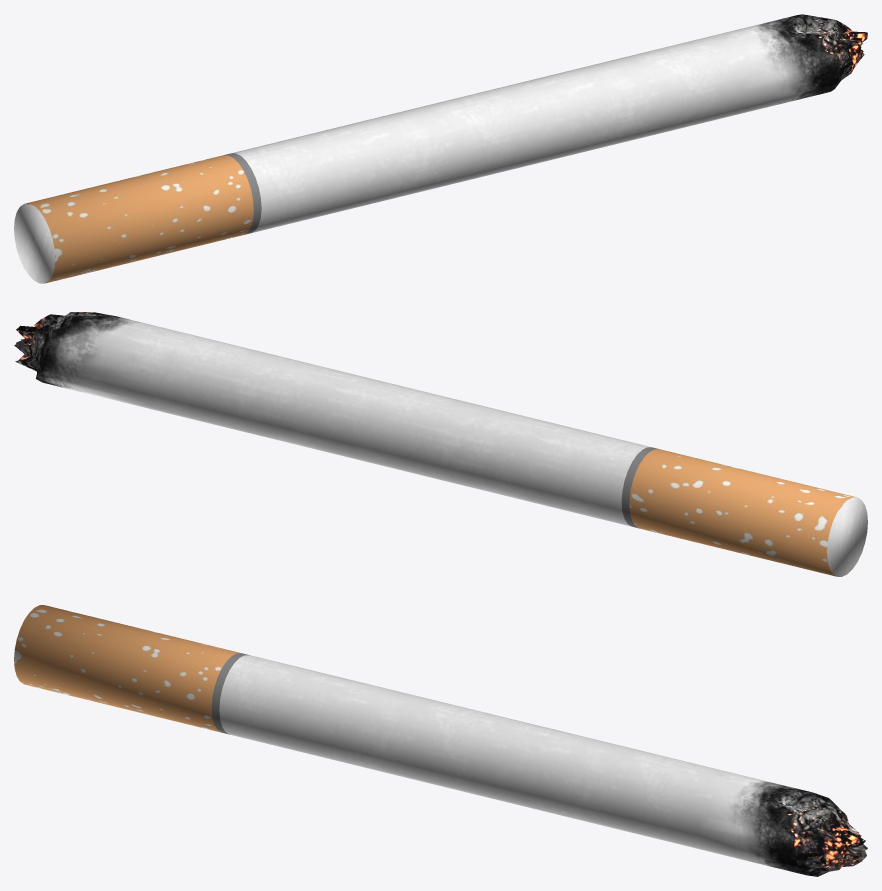
Rendered from cigarette.fbx.
The picture shows the model from 3 angles, top to bottom: view 1: azimuth 30°, elevation 25°; view 2: azimuth 150°, elevation 25°; view 3: azimuth 330°, elevation 25°; orthographic projection.
Visible parts, largest first — view 1: Circle.001; view 2: Circle.001; view 3: Circle.001.
Boxes of the visible parts, x1,y1,x2,y2 form: Circle.001: (14, 14, 867, 283); Circle.001: (14, 312, 867, 576); Circle.001: (14, 605, 867, 876).
Size of the model in its own units: 611 by 52.54 by 52.26.
